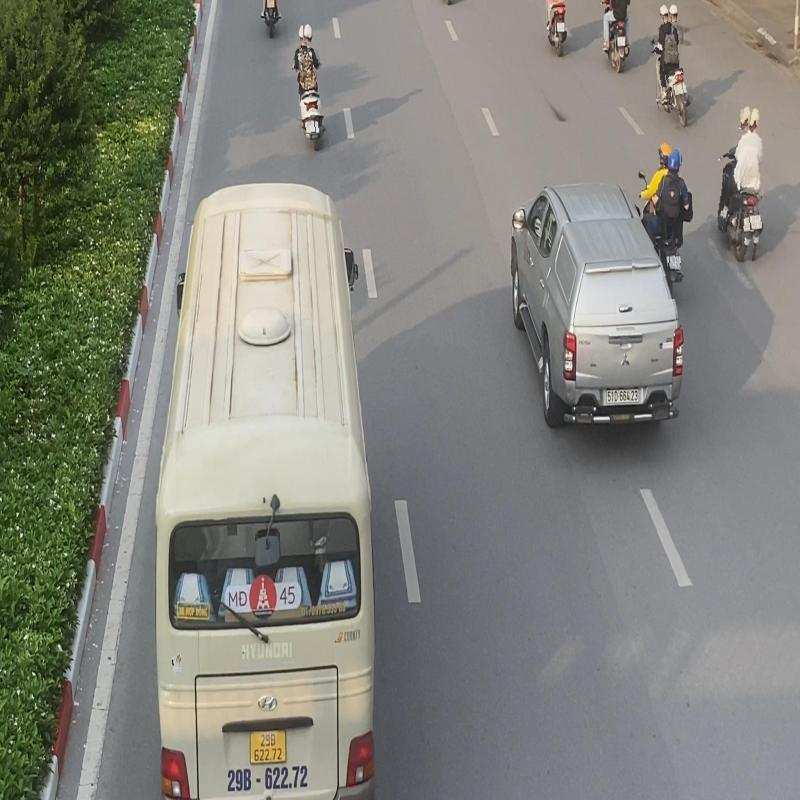helmet: (668, 149, 682, 175), (657, 143, 672, 167), (738, 105, 752, 130), (303, 23, 313, 42), (668, 4, 678, 22)
licenseplate: (668, 254, 681, 271), (749, 214, 762, 230), (305, 120, 316, 134), (674, 83, 684, 96)
motorcyclist: (633, 139, 695, 299), (712, 102, 768, 263), (648, 1, 694, 131), (290, 21, 327, 154)
